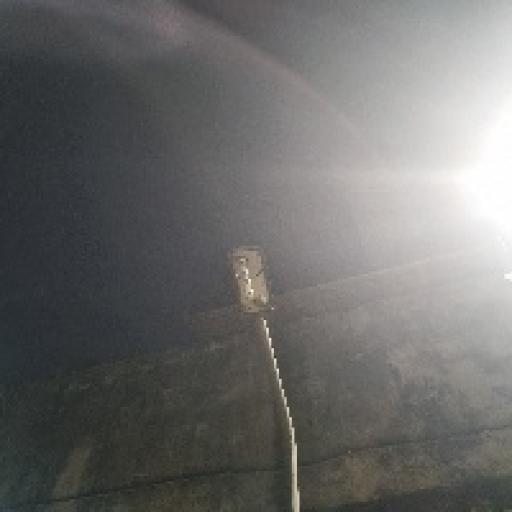Not Working: (211, 232, 286, 331)
